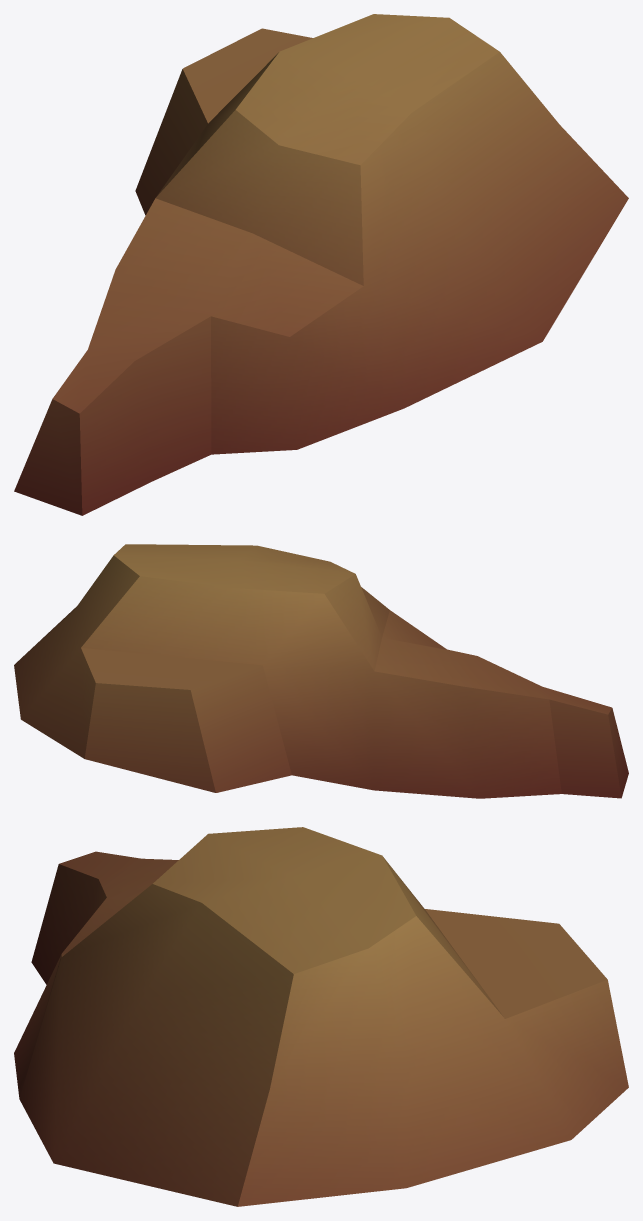
Rendered from Mountain_medium.011.fbx.
The picture shows the model from 3 angles, top to bottom: view 1: azimuth 30°, elevation 25°; view 2: azimuth 150°, elevation 25°; view 3: azimuth 270°, elevation 25°; orthographic projection. The views are drawn at different scales.
Parts seen in each view (by area): view 1: Mountain_medium.011; view 2: Mountain_medium.011; view 3: Mountain_medium.011.
Part boxes in pixels (x1=…): Mountain_medium.011: x1=14, y1=14, x2=628, y2=515; Mountain_medium.011: x1=14, y1=544, x2=628, y2=798; Mountain_medium.011: x1=14, y1=827, x2=628, y2=1206.
Size of the model in its own units: 121 by 46.18 by 85.29.
